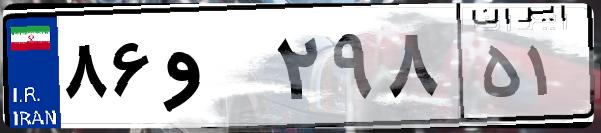1: (525, 38, 570, 115)
2: (270, 28, 330, 110)
5: (475, 38, 525, 113)
6: (110, 28, 158, 98)
8: (385, 28, 445, 110), (57, 26, 110, 100)
9: (330, 28, 385, 110)
و: (158, 20, 270, 120)
